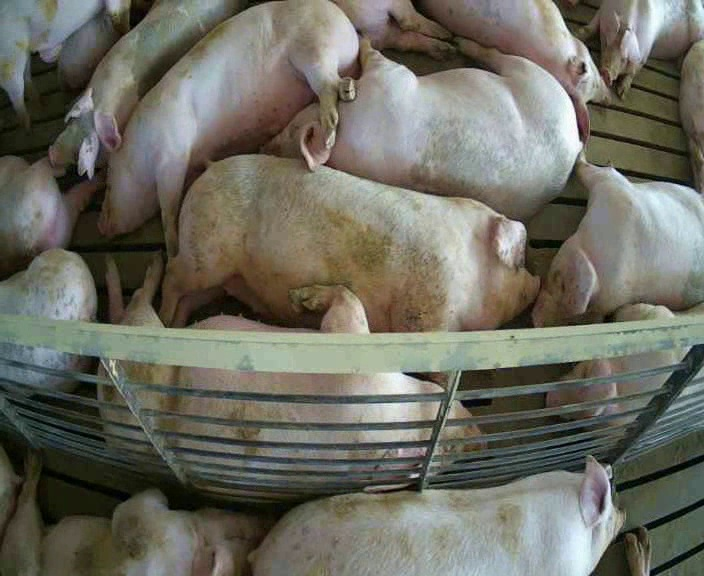pig: (94, 2, 358, 255), (262, 39, 582, 219), (253, 456, 623, 574), (49, 3, 245, 176), (533, 159, 703, 326), (416, 1, 609, 142), (0, 1, 128, 125), (578, 2, 703, 97), (0, 156, 94, 277)
